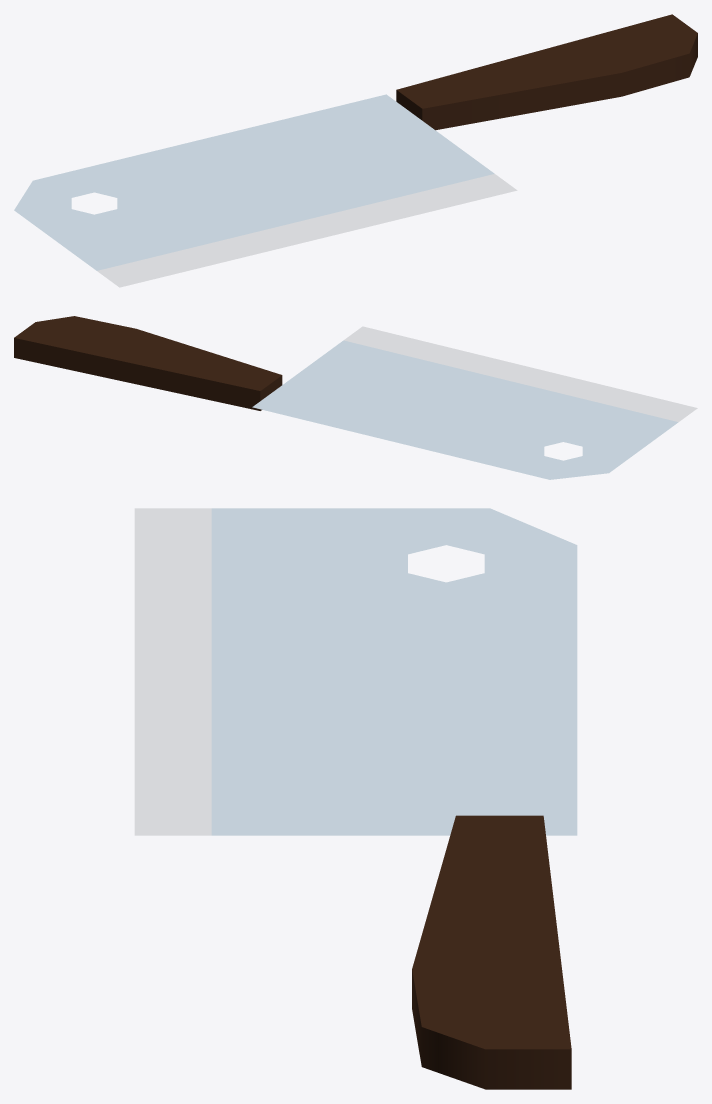
File: Cooking Knife Chopping.glb
3 views of the same model, one above another, from view 1: azimuth 30°, elevation 25°; view 2: azimuth 150°, elevation 25°; view 3: azimuth 270°, elevation 25° (orthographic). The views are drawn at different scales.
Visible parts, largest first — view 1: Cooking Knife Chopping; view 2: Cooking Knife Chopping; view 3: Cooking Knife Chopping.
Boxes of the visible parts, bbox=[...] form: Cooking Knife Chopping: bbox=[14, 14, 697, 287]; Cooking Knife Chopping: bbox=[14, 316, 697, 479]; Cooking Knife Chopping: bbox=[134, 508, 577, 1089].
Bounding box in the file's own units: 0.264 × 0.0088 × 0.088.
